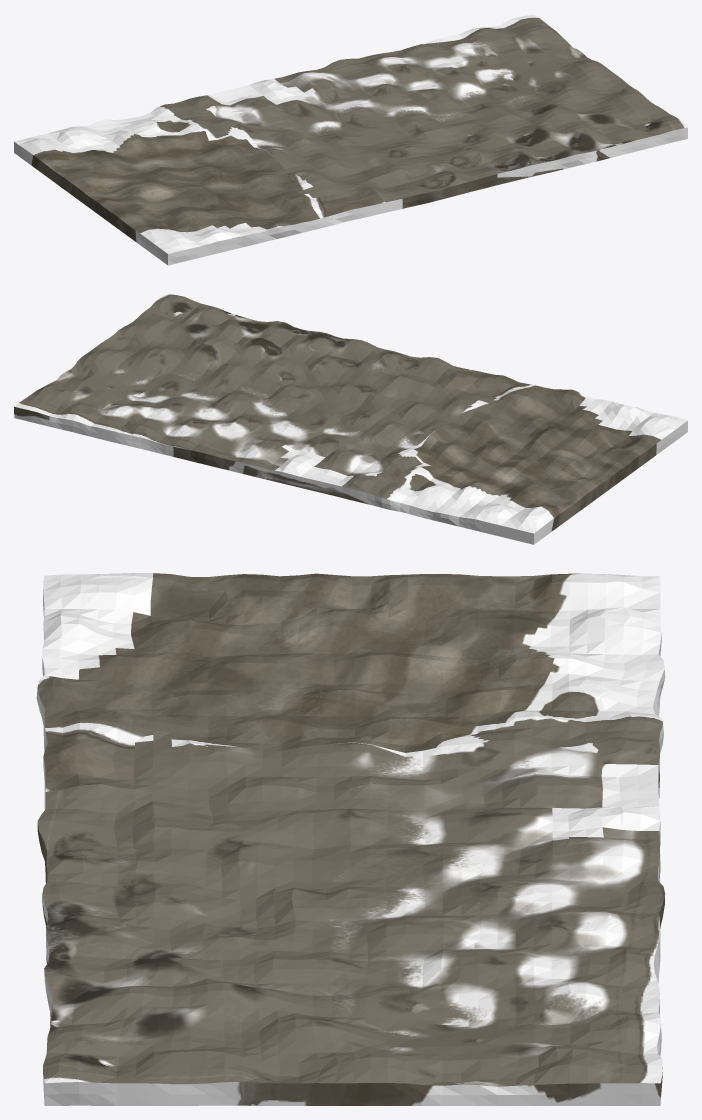
Rendered from road.obj.
The picture shows the model from 3 angles, top to bottom: view 1: azimuth 30°, elevation 25°; view 2: azimuth 150°, elevation 25°; view 3: azimuth 270°, elevation 25°; orthographic projection. The views are drawn at different scales.
Parts seen in each view (by area): view 1: Box; view 2: Box; view 3: Box.
Boxes of the visible parts, left/top/right/bottom form: Box: left=14, top=14, right=687, bottom=265; Box: left=14, top=294, right=687, bottom=544; Box: left=36, top=573, right=665, bottom=1105.
Size of the model in its own units: 2.01 by 0.0731 by 1.05.
